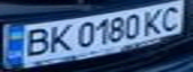0: (121, 11, 145, 39), (75, 19, 96, 48)
1: (93, 16, 112, 46)
8: (109, 14, 127, 43)
B: (15, 25, 54, 57)
C: (157, 2, 187, 32)
K: (45, 21, 75, 54), (139, 7, 169, 35)
